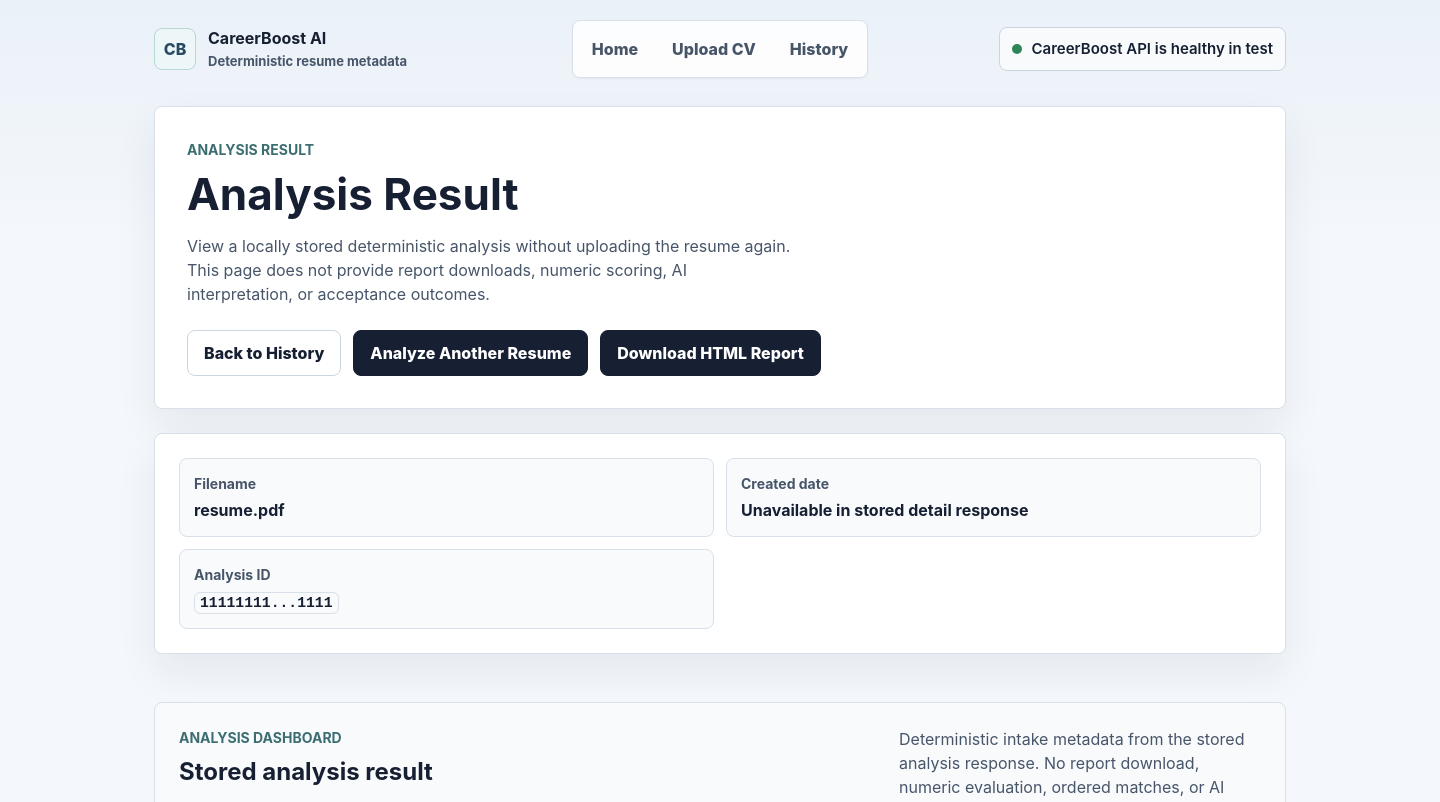
App › disables the report download action while a download is in progress
Click the button "Download HTML Report". click: coordinates (711, 353)
box: [600,330,821,376]
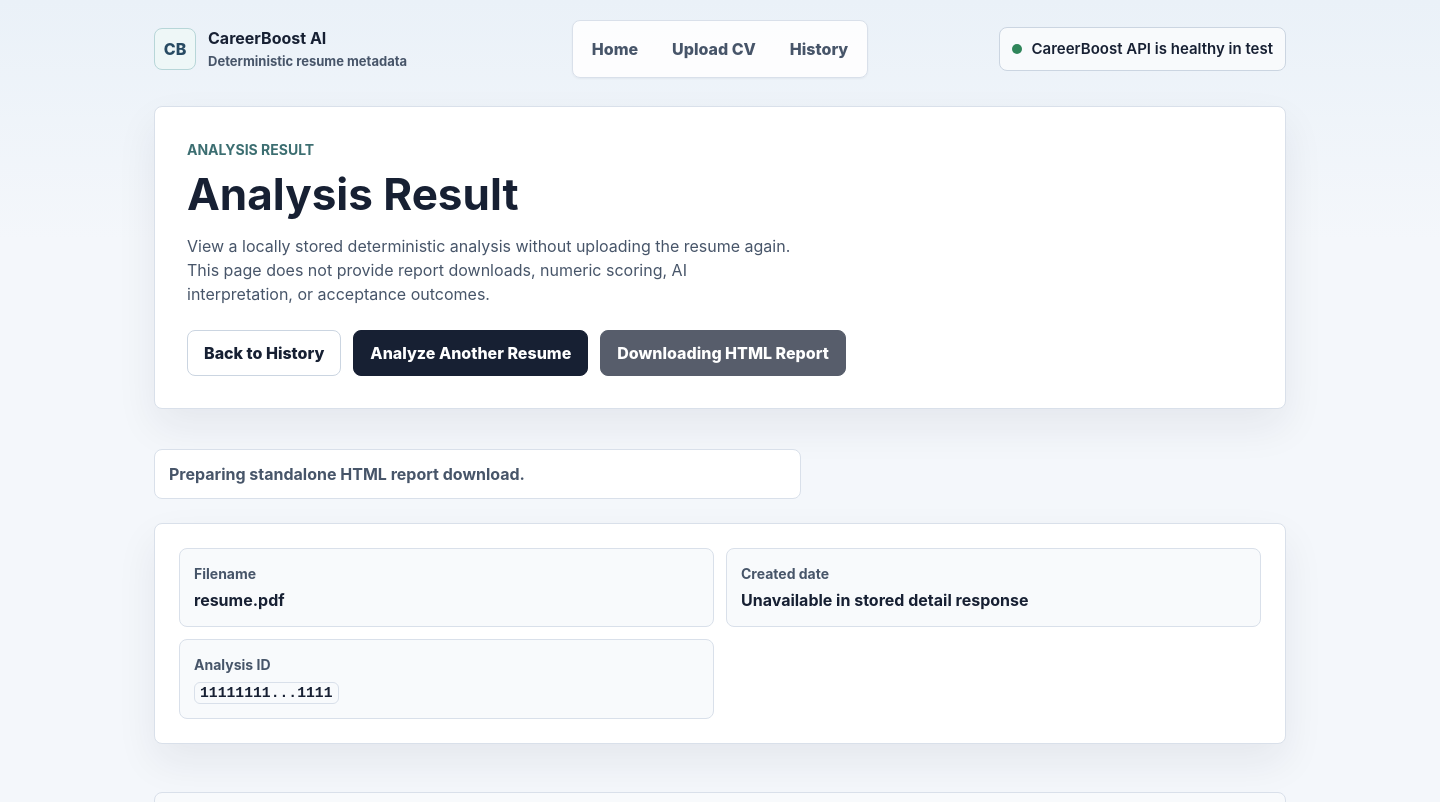
Expected: the text "Preparing standalone HTML report download." is shown, [154,449,801,499]
Expected: the button "Downloading HTML Report" is disabled, [600,330,846,376]
